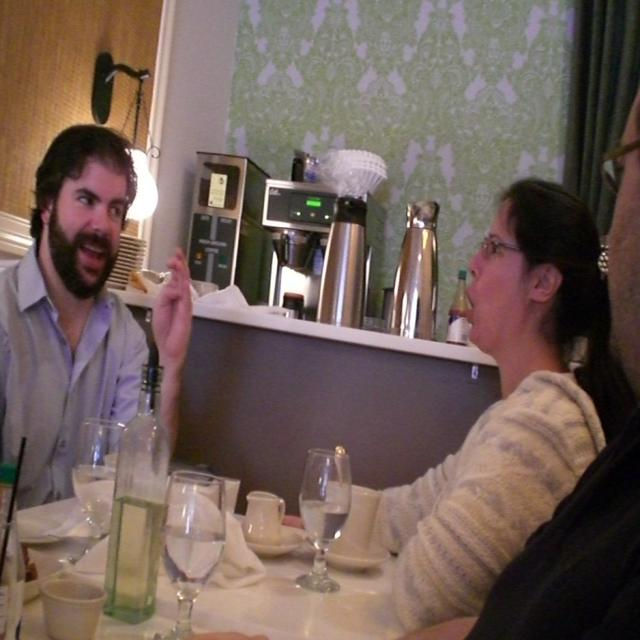Glasses: (598, 128, 640, 198), (479, 232, 522, 265)
